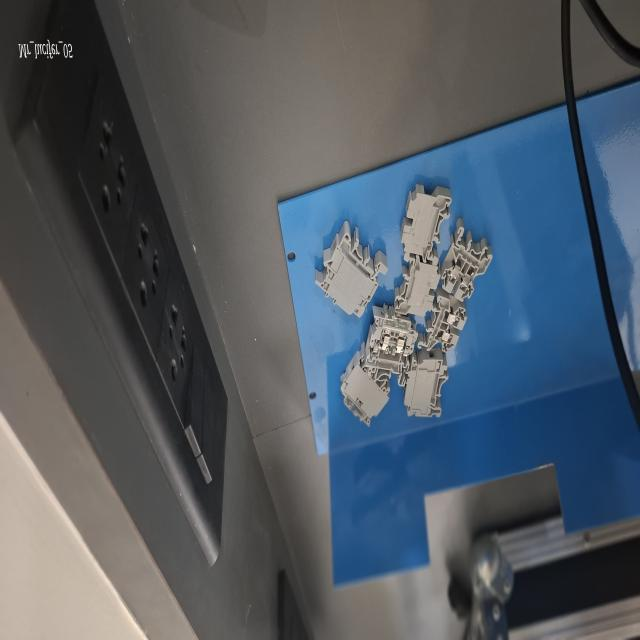Inverted: (396, 174, 454, 274)
Pass: (441, 218, 497, 300), (415, 290, 470, 360)
